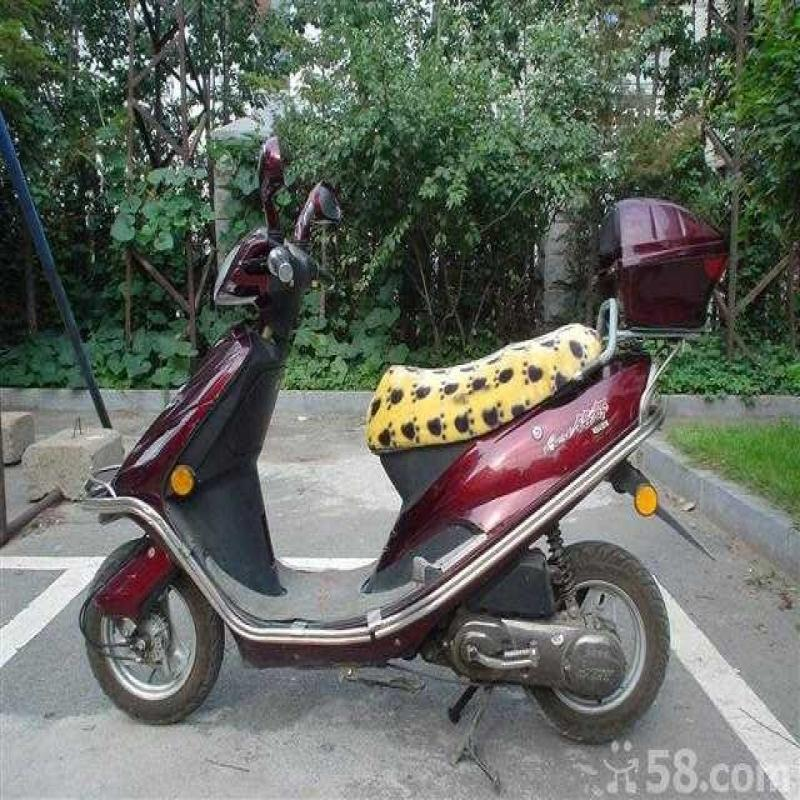bike: (78, 124, 796, 739)
